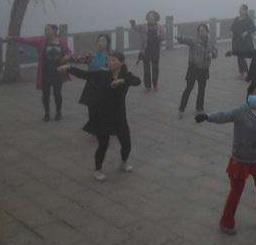person: (58, 54, 141, 180), (197, 86, 256, 235), (12, 23, 73, 122), (172, 23, 221, 120), (129, 11, 171, 94), (226, 5, 256, 80), (61, 32, 117, 69)
